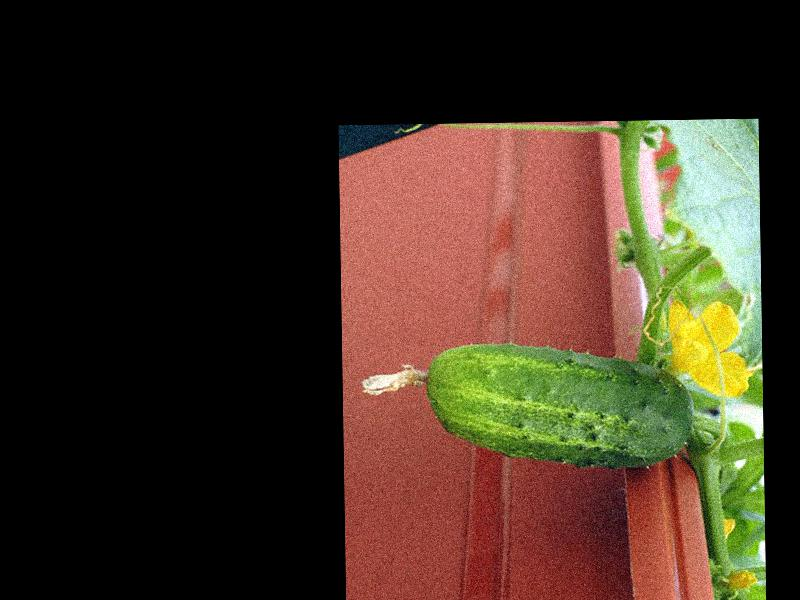Cucumber: (359, 339, 695, 471)
